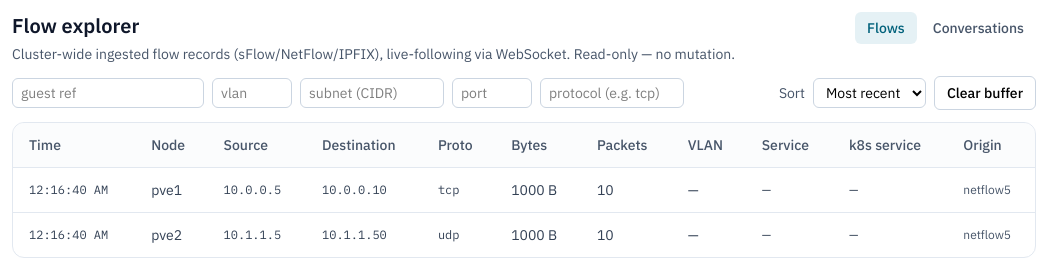
it: FlowExplorer › filters the rendered rows by protocol
Check: the text "pve2" is shown, box [135,212,208,257]
Type "udp" into the field named "Filter by protocol" at point(612, 93), box [540,78,684,108]
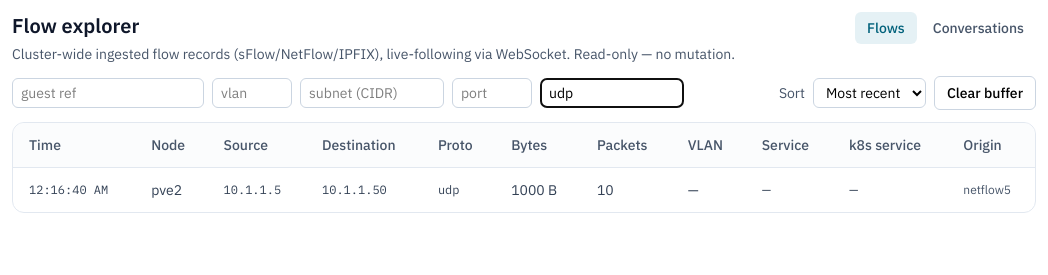
Check: the text "pve2" is shown, box [135,168,208,212]
Check: the text "pve1" is gone
